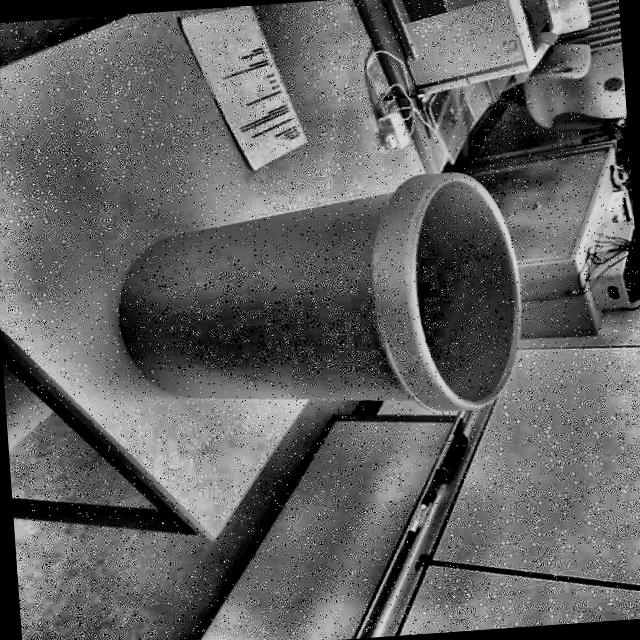Dustbin: (105, 155, 540, 459)
